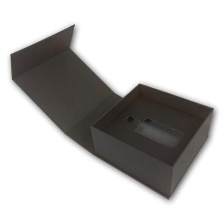book: (6, 18, 217, 203)
